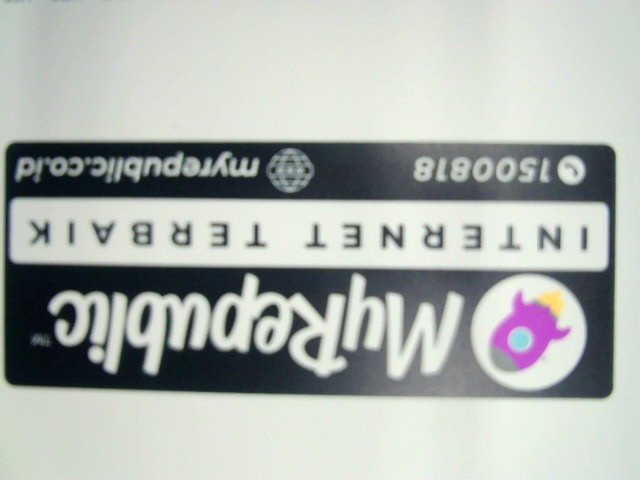BD_MyRepublic: (3, 138, 617, 401)
